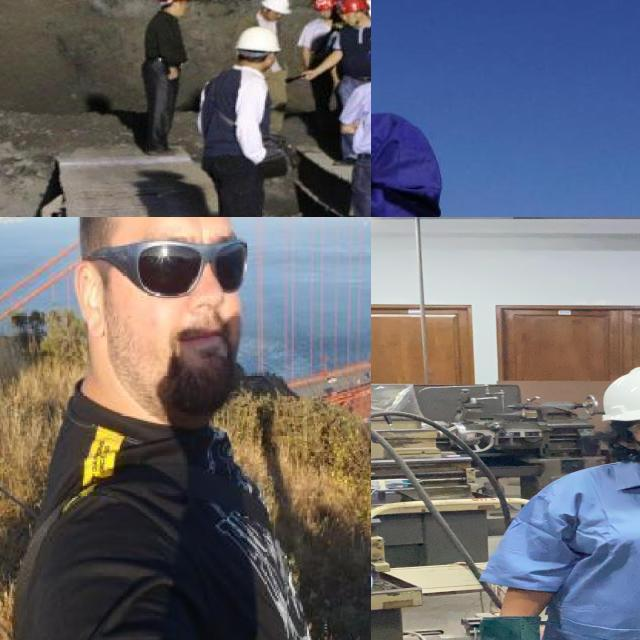No_Ear-Protection: (74, 262, 110, 340)
face_nomask: (130, 228, 248, 367), (338, 10, 358, 26), (316, 6, 334, 20), (268, 10, 284, 22)
glasses: (82, 222, 245, 300)
hand_noglove: (163, 64, 182, 80)
head_helmet: (597, 358, 640, 423), (233, 25, 283, 55), (331, 0, 371, 17), (258, 0, 294, 16), (306, 0, 340, 14)
person: (7, 217, 349, 640), (483, 361, 640, 640), (196, 25, 283, 217), (371, 0, 437, 217), (135, 0, 196, 162), (327, 33, 371, 217), (300, 0, 353, 132)
shoes: (144, 137, 178, 157)
